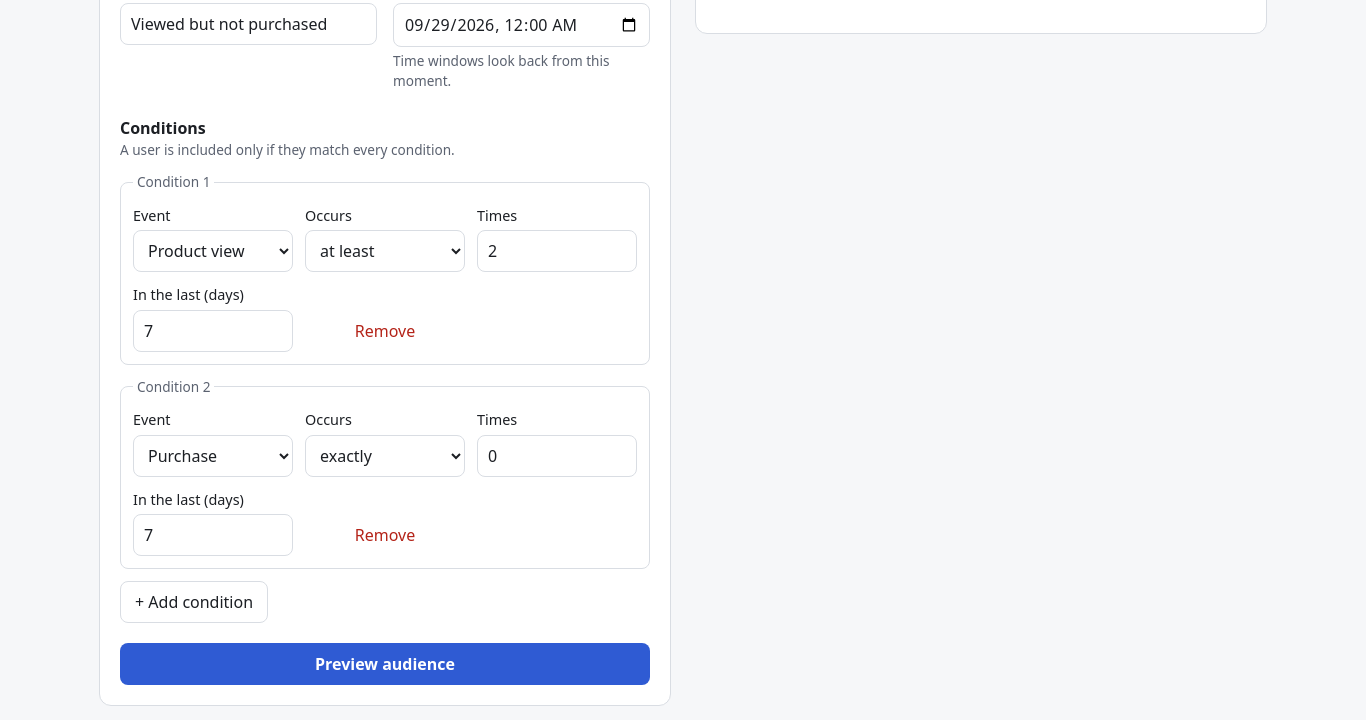
Test case: App › supports keyboard-only rule editing: add focuses the new row, remove is labelled
(page scrolled)
Click the button "+ Add condition" at (194,602), box top-left (120, 581), bottom-right (268, 623)
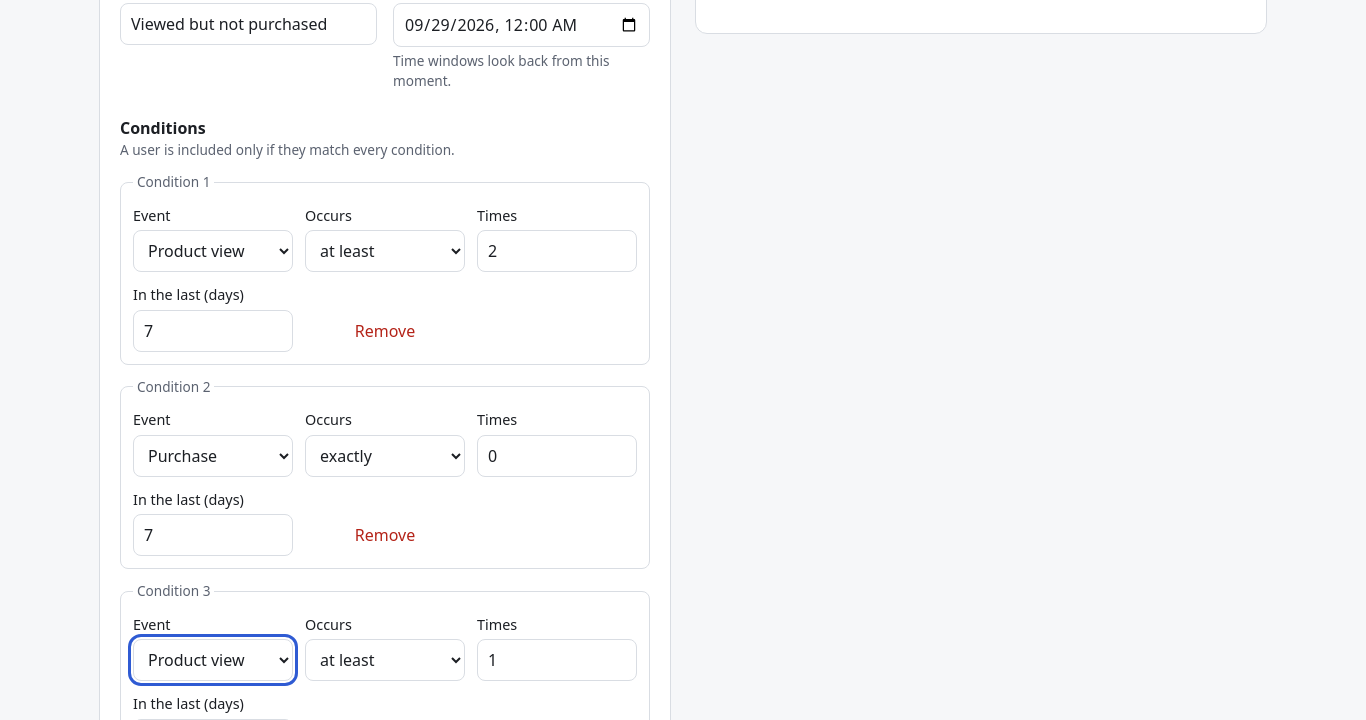
Press Tab Tab Tab Tab Enter
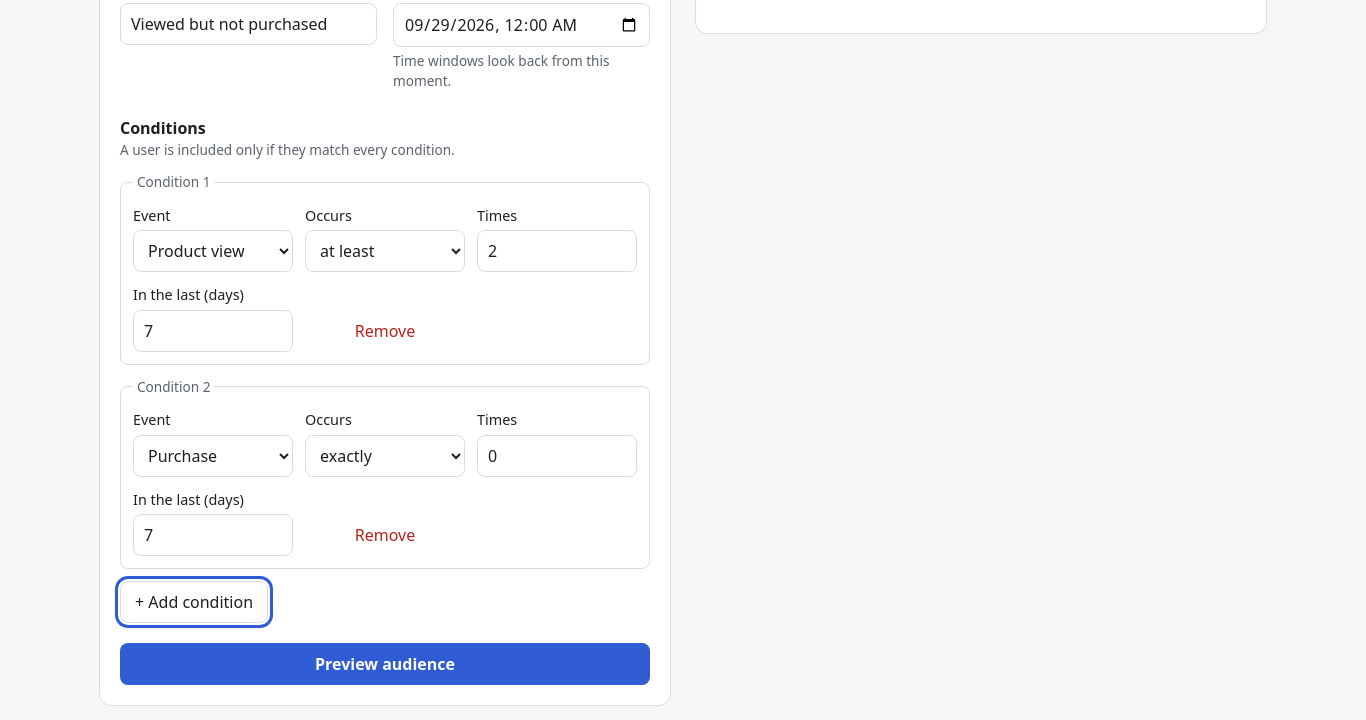
Expected: the button with aria-label "Remove condition 2" is shown, top-left (305, 514), bottom-right (465, 556)
Expected: the text "Condition 3" is gone
